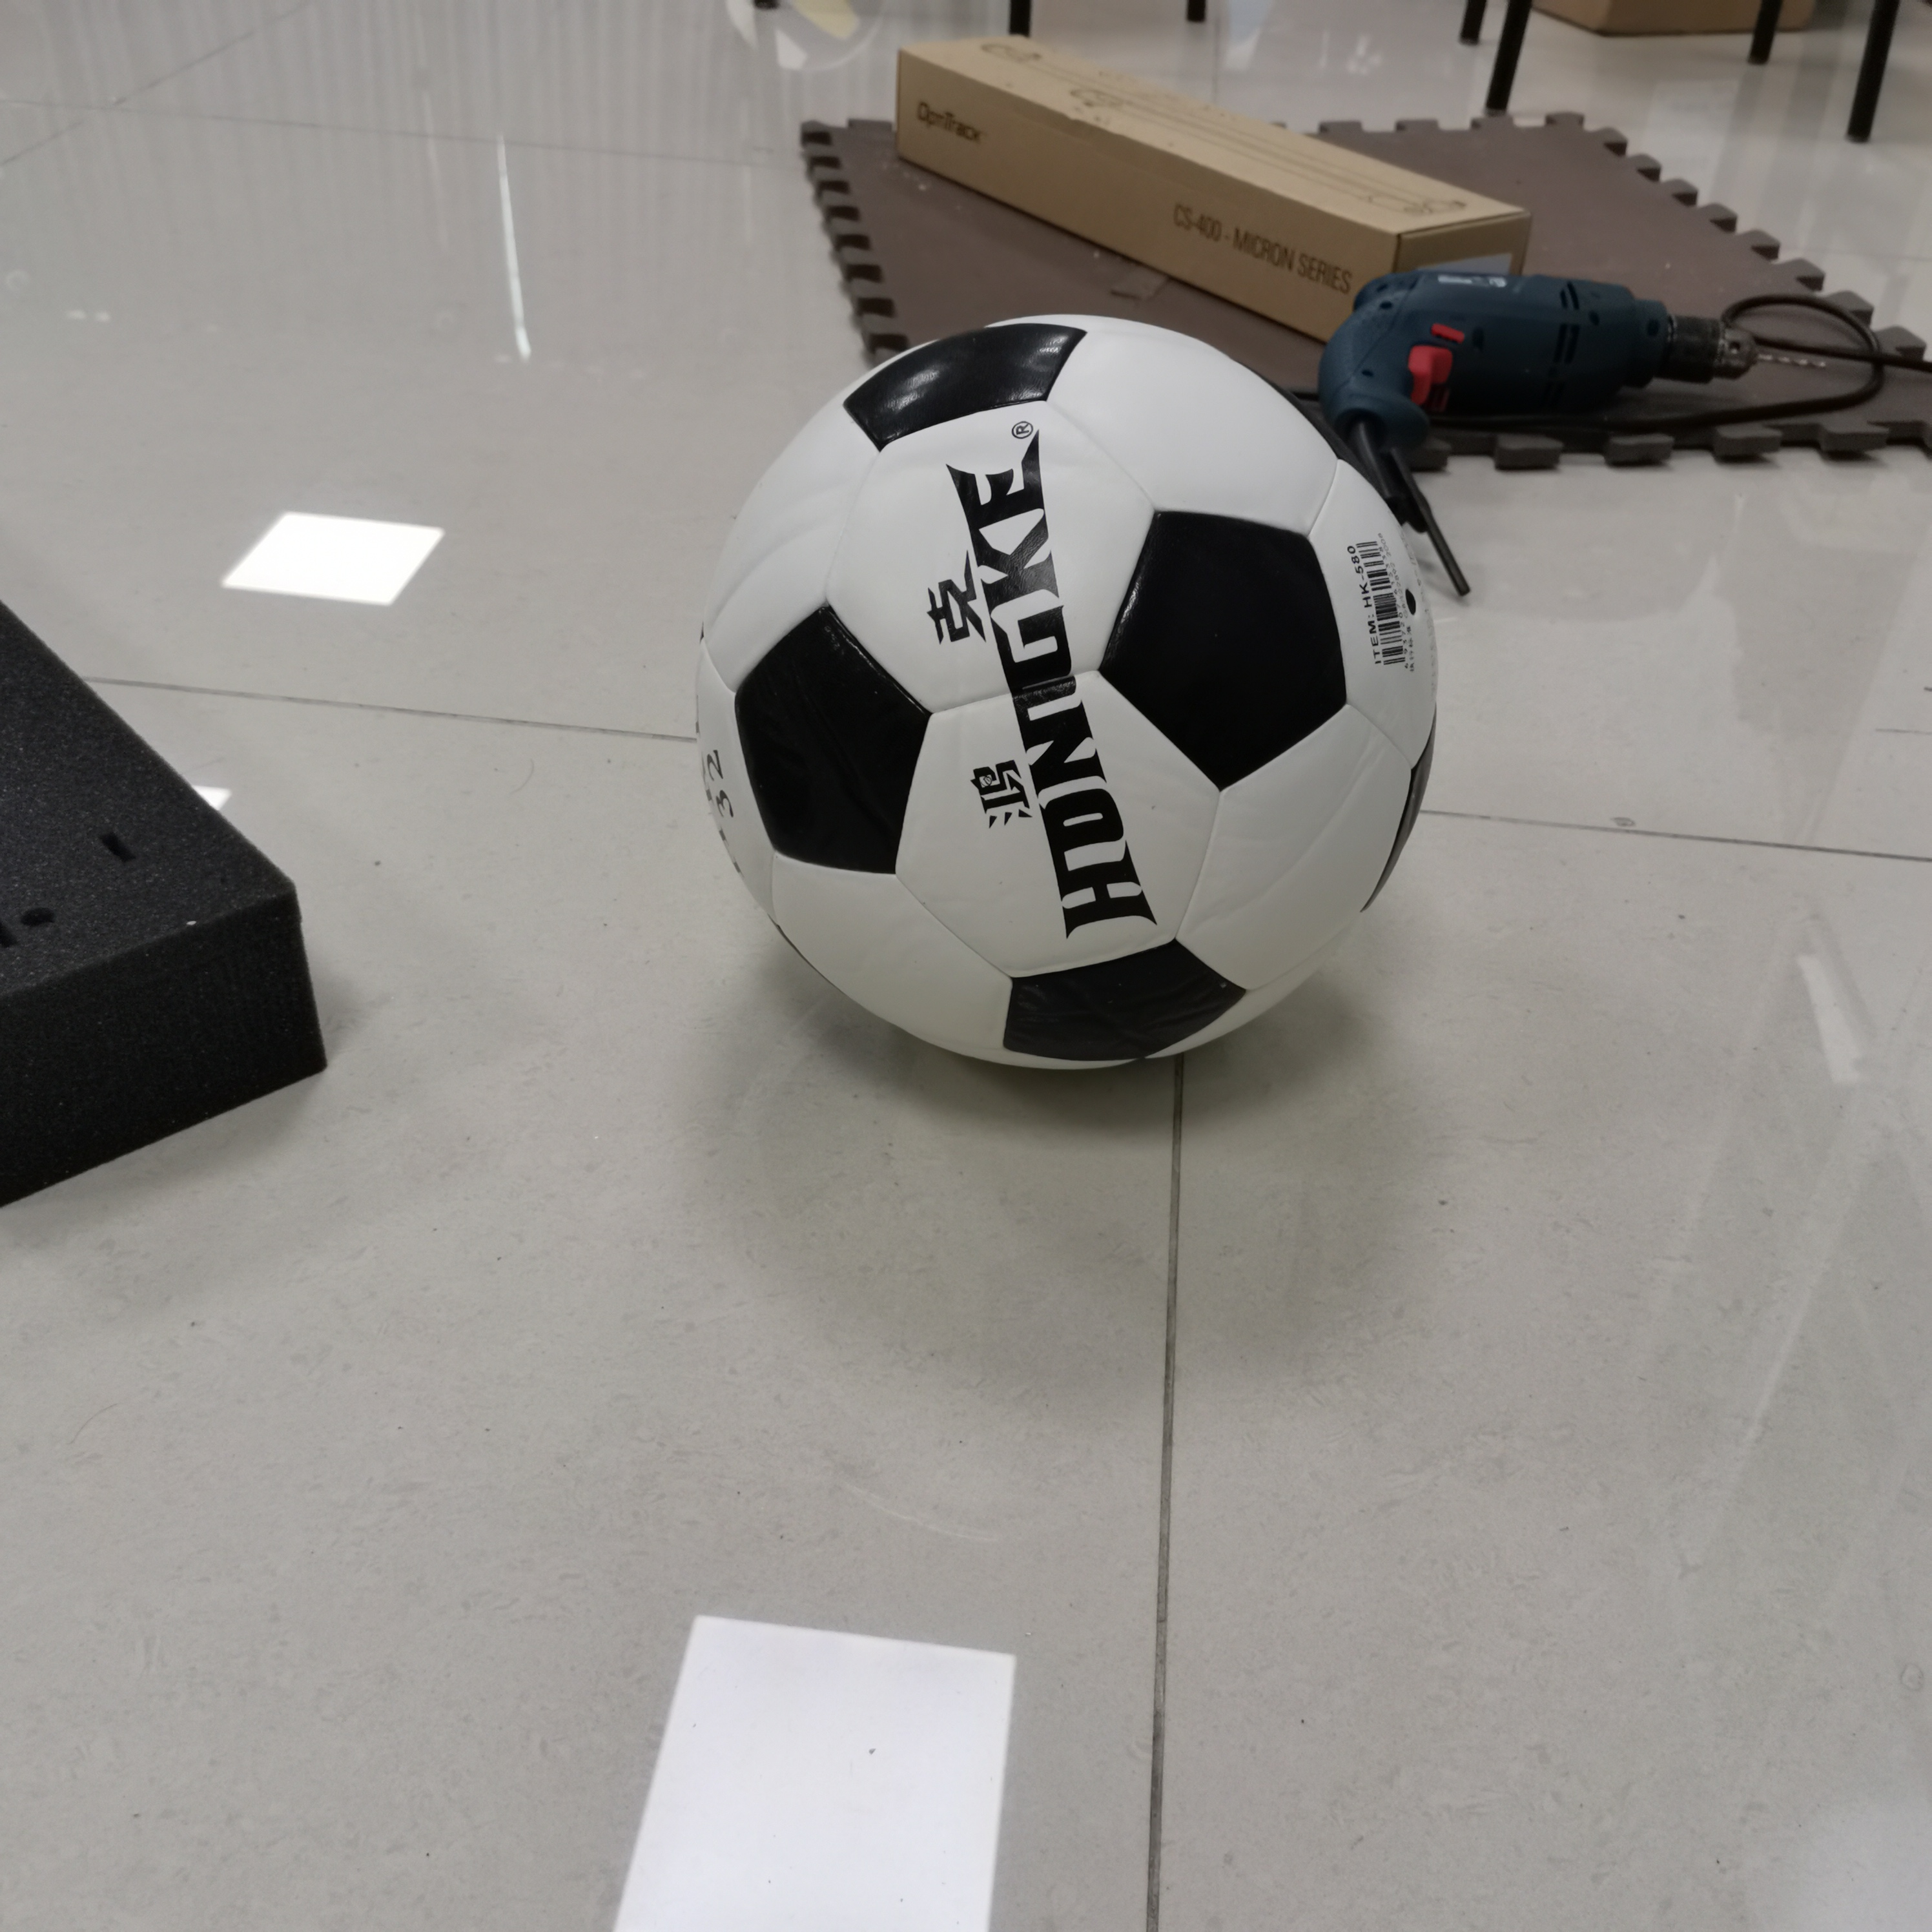football: (695, 315, 1445, 1076)
